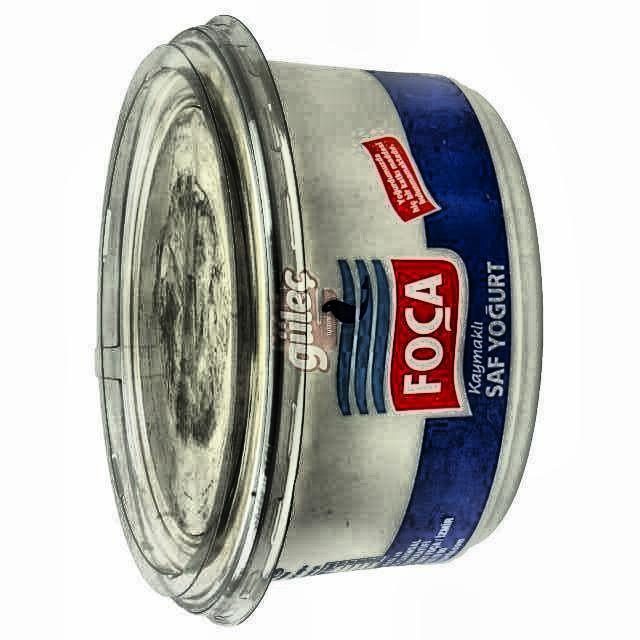plastic: (98, 16, 541, 623)
